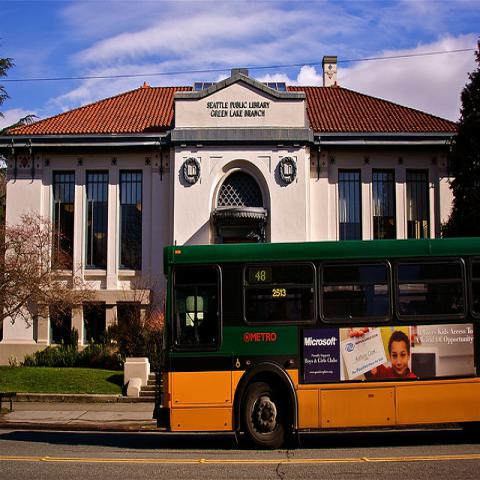bus: (161, 237, 479, 458)
